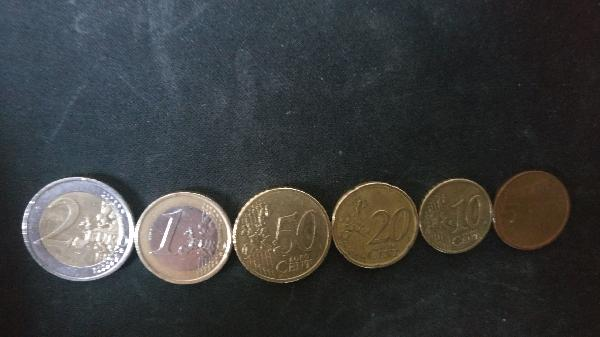Fifty Cent: (233, 188, 332, 288)
Five Cent: (490, 167, 577, 251)
One Euro: (134, 191, 236, 293)
Ten Cent: (415, 177, 494, 257)
Twenty Cent: (326, 178, 419, 271)
Two Euro: (20, 178, 137, 284)
